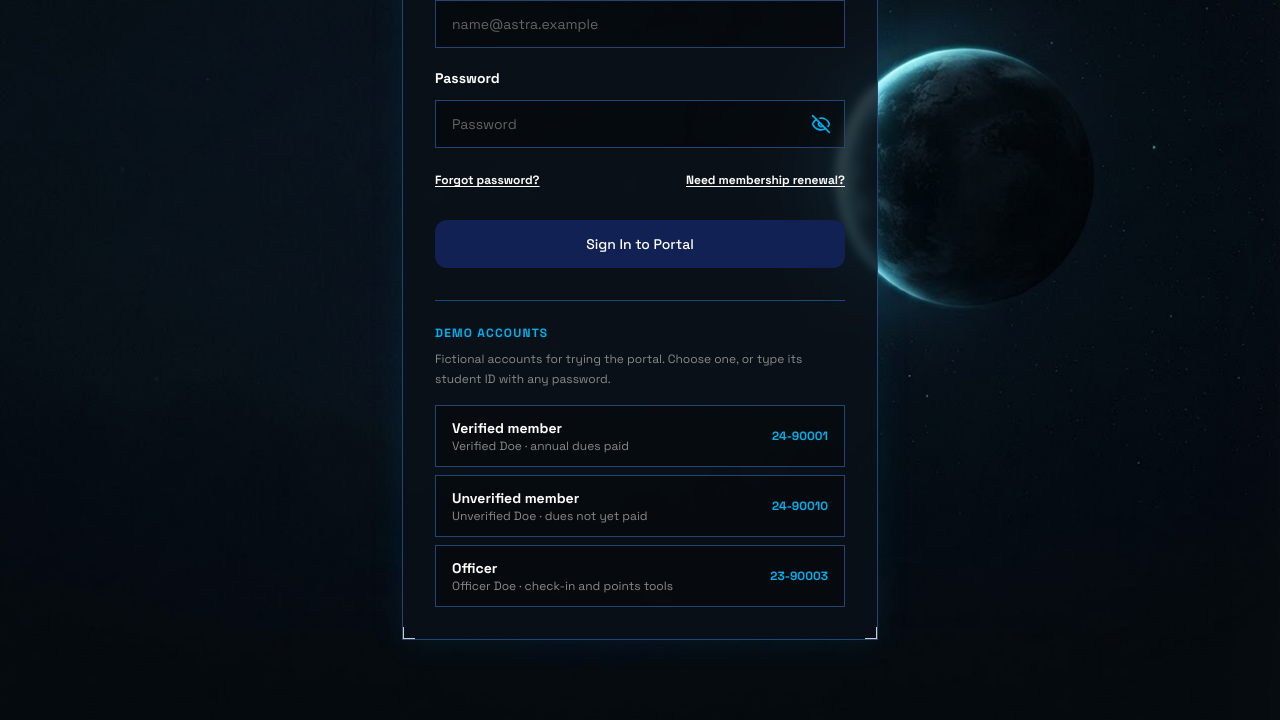
Test case: portal shell › adds officer tools for an officer
(page scrolled)
What coordinates should you click on to do the following:
click the button "Officer Officer Doe · check-in and points tools 23-90003"
I would click on:
 (640, 576)
Its box is [435,545,845,607].
(page scrolled)
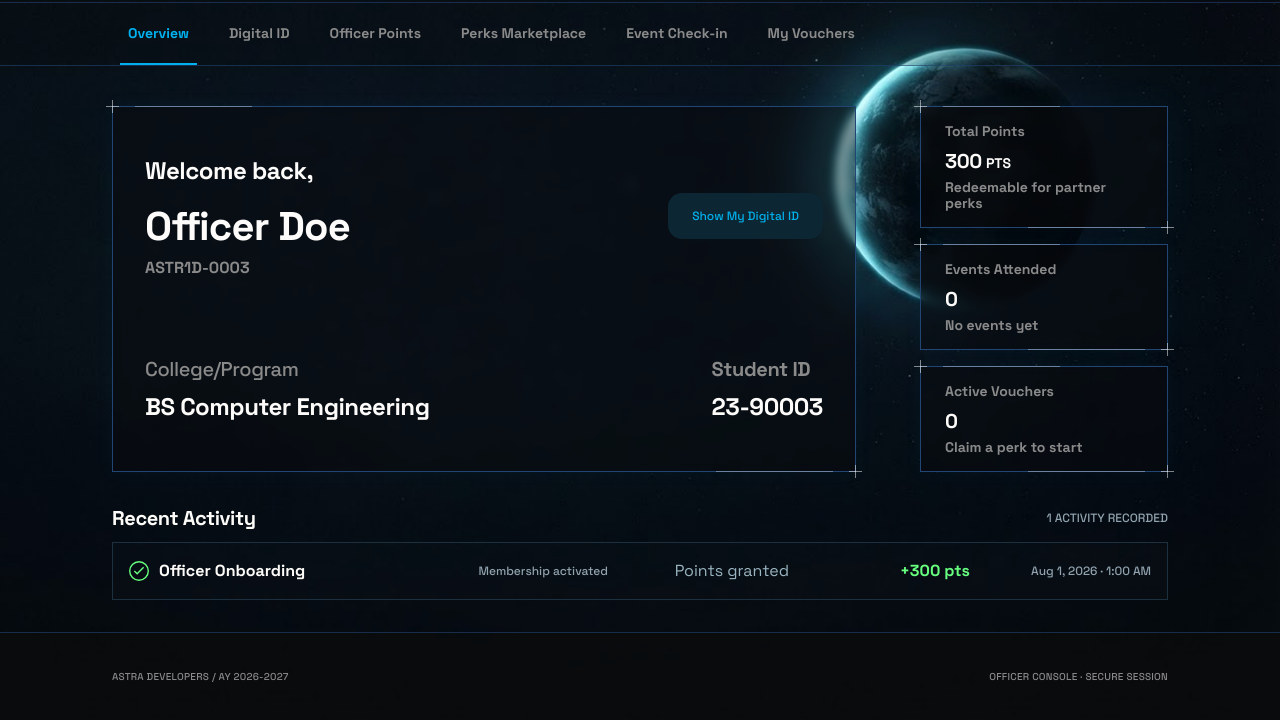
Result: the text "Officer console · Secure session" is shown at [989,669,1168,684]
